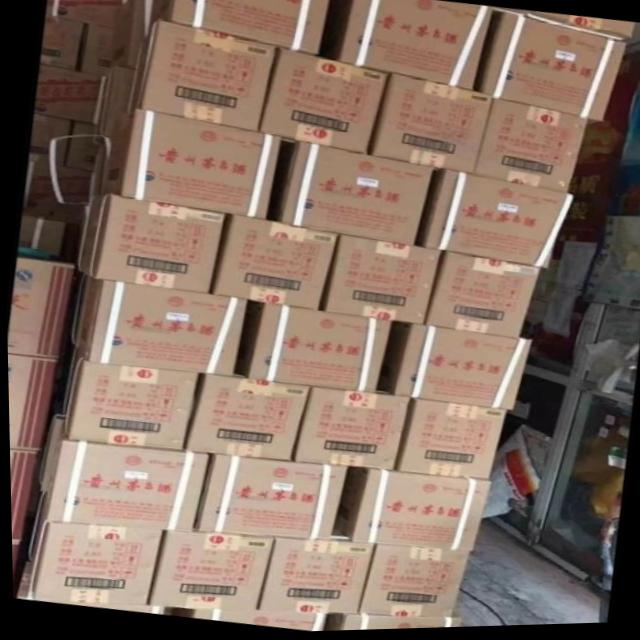box: (99, 20, 277, 146), (88, 110, 281, 221), (266, 138, 434, 249), (70, 275, 247, 378), (476, 12, 626, 129), (318, 0, 495, 95), (40, 436, 207, 535), (64, 194, 227, 294), (413, 172, 574, 273), (44, 436, 206, 534), (233, 301, 390, 397), (260, 48, 391, 156), (374, 323, 529, 413), (62, 350, 201, 450), (332, 468, 488, 554), (193, 456, 348, 542), (208, 215, 340, 312), (368, 76, 493, 177), (133, 0, 329, 60), (25, 521, 163, 605), (181, 372, 307, 463), (472, 100, 587, 197), (317, 237, 440, 327), (254, 531, 374, 617), (148, 532, 274, 613), (422, 253, 537, 340), (292, 389, 409, 473), (395, 400, 505, 483), (6, 256, 83, 362), (358, 547, 466, 620), (6, 353, 72, 453), (498, 12, 637, 46), (33, 64, 103, 127), (160, 608, 326, 633), (8, 449, 42, 543), (78, 25, 133, 74), (39, 15, 86, 71), (47, 3, 134, 32), (321, 615, 458, 633), (38, 601, 163, 616), (9, 524, 34, 598), (60, 122, 97, 170), (49, 0, 126, 5)
